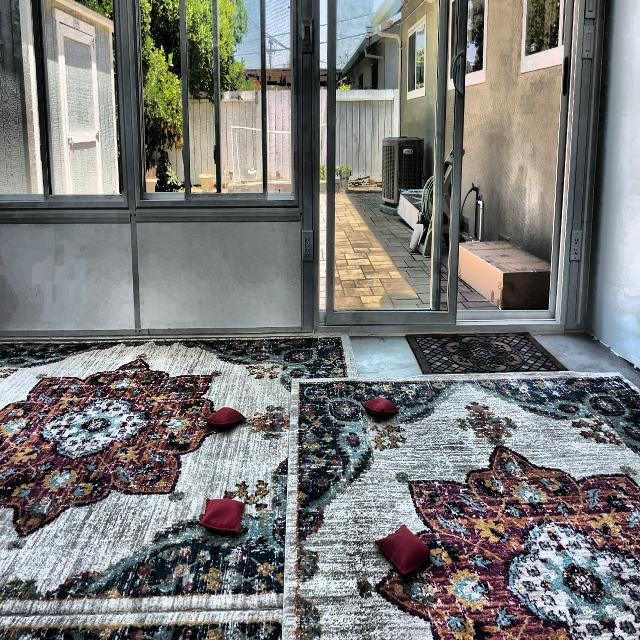red-bean-bag: (374, 523, 430, 575), (200, 497, 245, 534), (204, 406, 247, 429), (360, 394, 400, 416)
